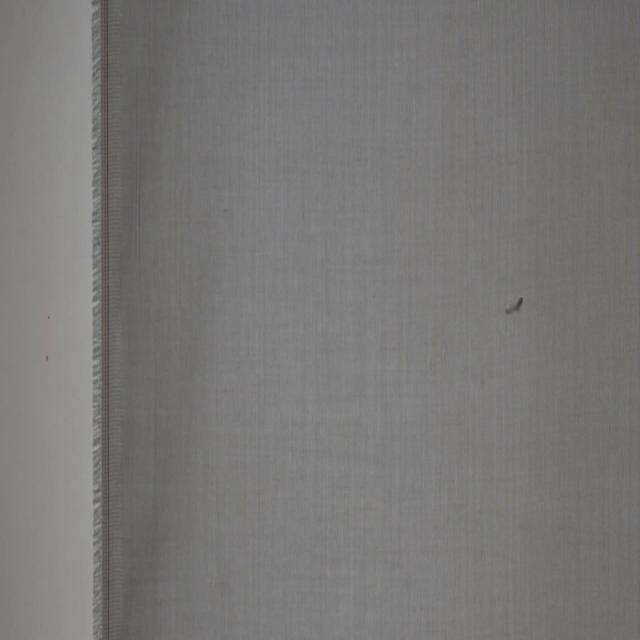dirty: (504, 294, 524, 318)
